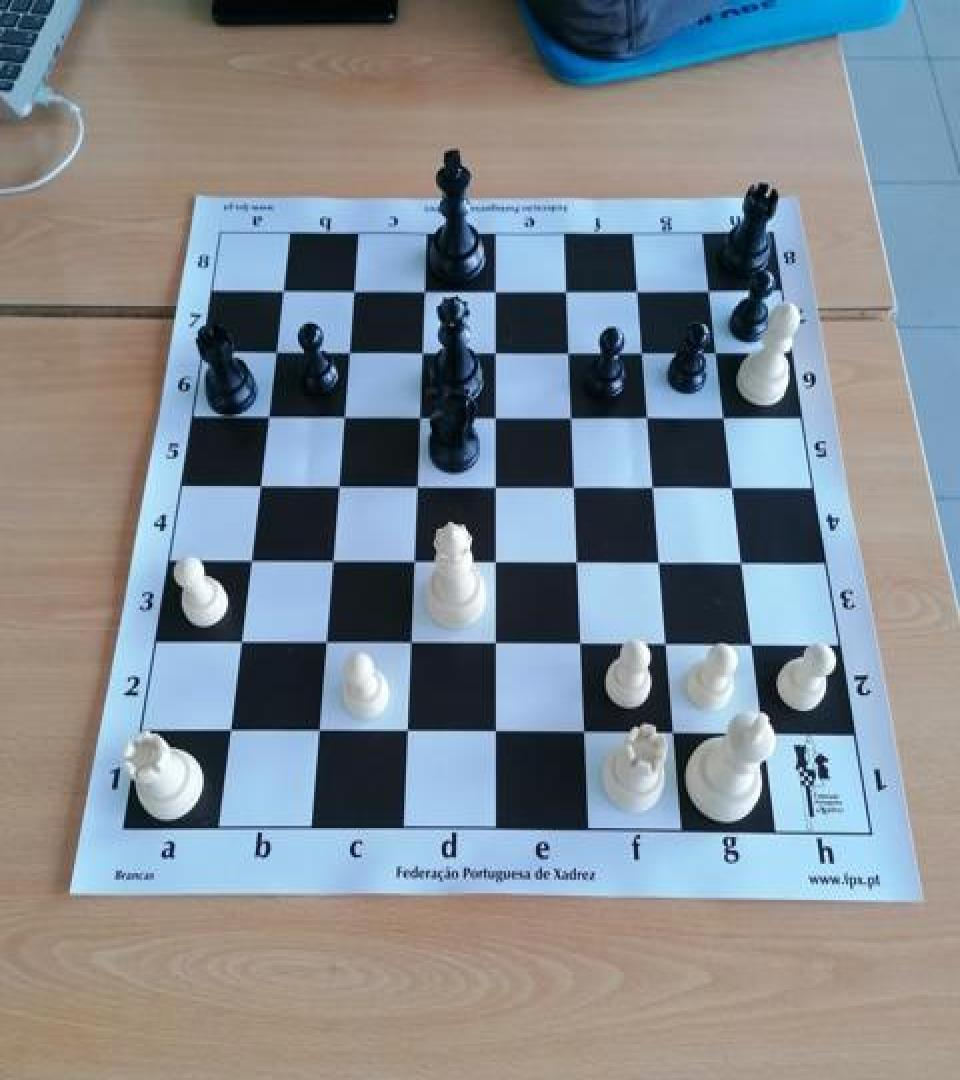xcorner: (233, 544, 265, 581), (223, 625, 255, 662), (315, 544, 347, 581), (398, 544, 430, 581), (481, 544, 513, 581), (563, 545, 595, 582), (647, 545, 679, 582), (730, 545, 762, 582), (266, 272, 298, 308), (259, 333, 291, 369), (251, 398, 283, 434), (242, 468, 274, 504), (212, 714, 244, 750), (338, 272, 370, 308), (333, 333, 365, 369), (327, 398, 359, 434), (322, 469, 354, 505), (308, 626, 340, 662), (301, 714, 333, 750), (410, 272, 442, 308), (407, 333, 439, 369), (404, 398, 436, 434), (401, 469, 433, 505), (394, 626, 426, 662), (390, 716, 422, 752), (481, 272, 513, 308), (481, 333, 513, 369), (481, 398, 513, 434), (481, 469, 513, 505), (480, 626, 512, 662), (480, 716, 512, 752), (553, 272, 585, 308), (555, 333, 587, 369), (558, 400, 590, 436), (561, 469, 593, 505), (567, 626, 599, 662), (570, 716, 602, 752), (625, 272, 657, 308), (630, 333, 662, 369), (635, 400, 667, 436), (641, 469, 673, 505), (653, 628, 685, 664), (660, 716, 692, 752), (697, 272, 729, 308), (704, 333, 736, 369), (712, 400, 744, 436), (721, 469, 753, 505), (739, 628, 771, 664), (750, 716, 782, 752)
